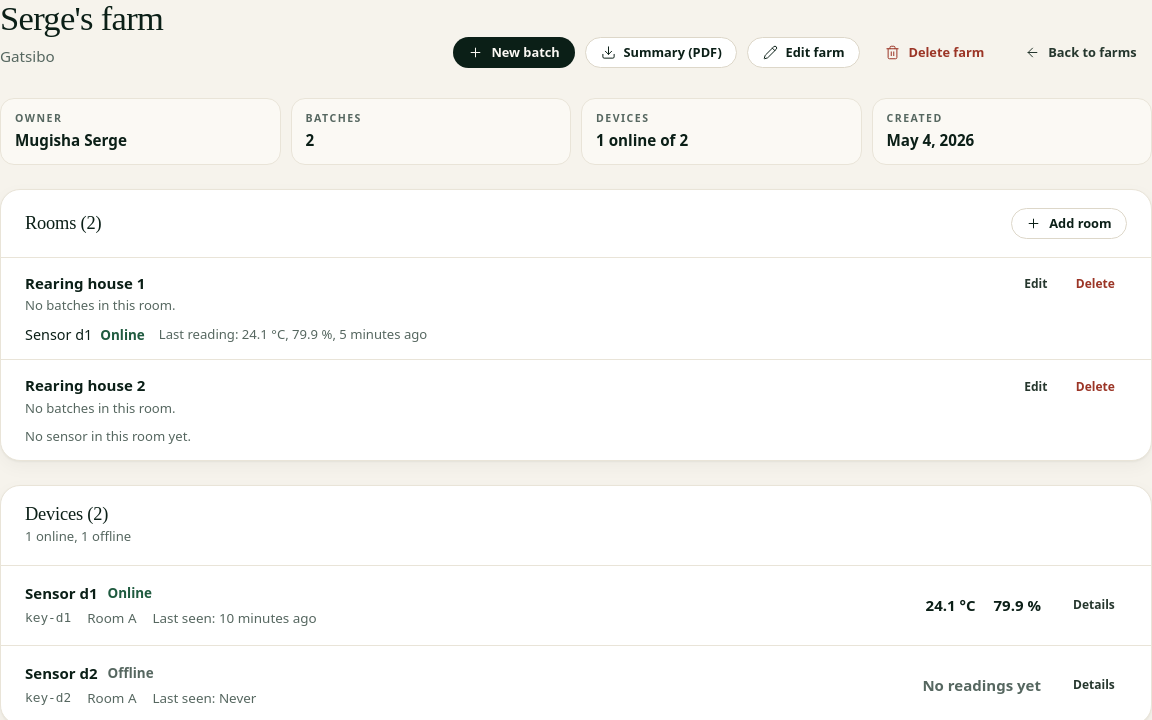
Test: Farm details page › lets a farmer rename a farm from before places without asking for a place
The image size is (1152, 720).
Expected: the text "Mugisha Serge" is shown, [15,130,127,150]
Click the button "Edit farm".
click(804, 53)  # box [747,37,860,68]
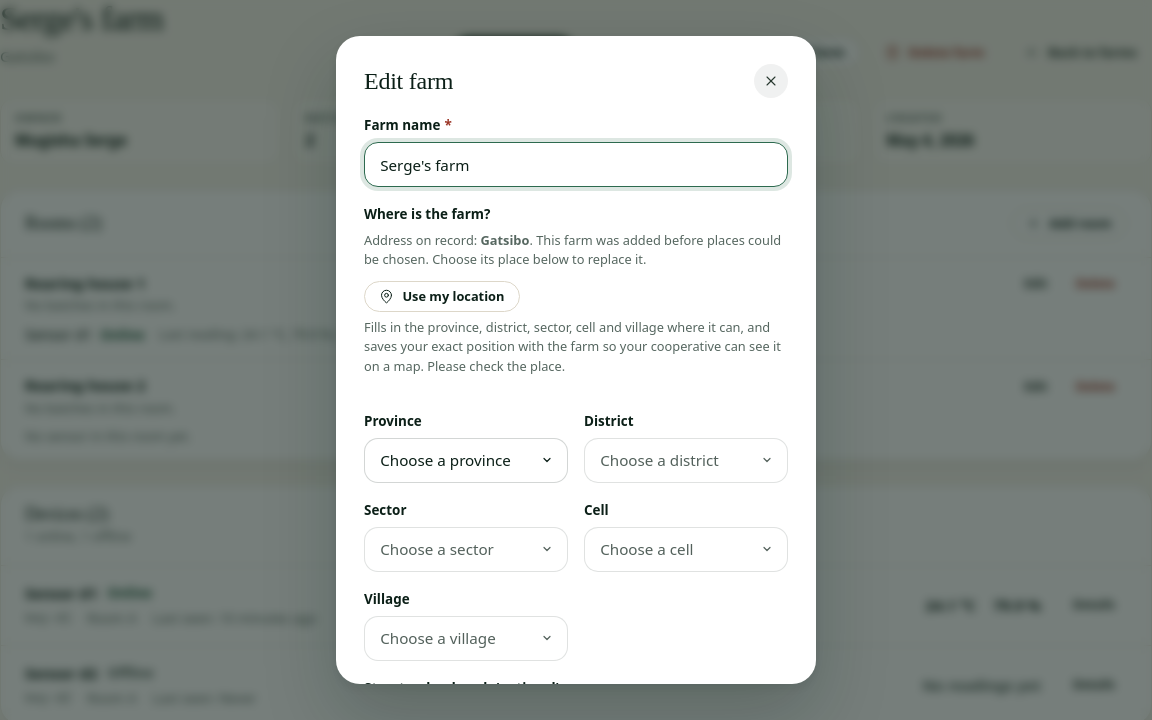
Expected: the field labelled "Farm name *" holds "Serge's farm"
Expected: the text "Gatsibo" is shown, [480,231,529,249]
Replace the text in the field labelled "Farm name *" with "Serge Farm" at (576, 164), box [364,142,788,187]
(page scrolled)
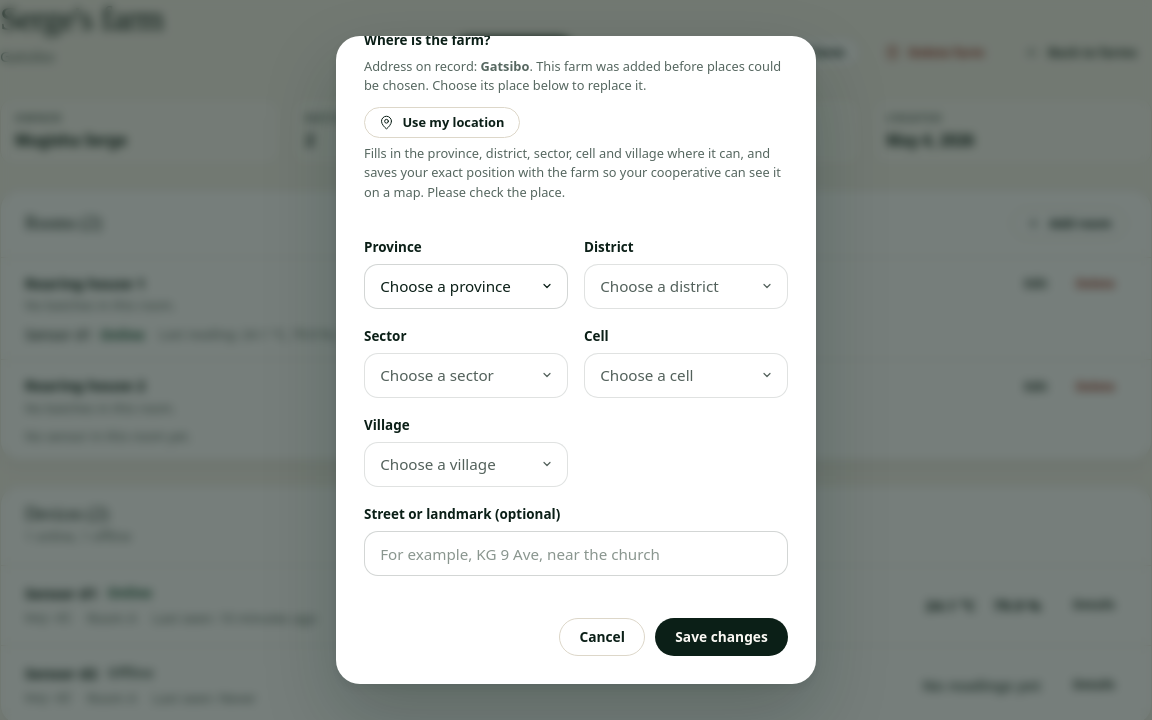
Click the button "Save changes".
click(722, 637)  # box [655,618,788,656]
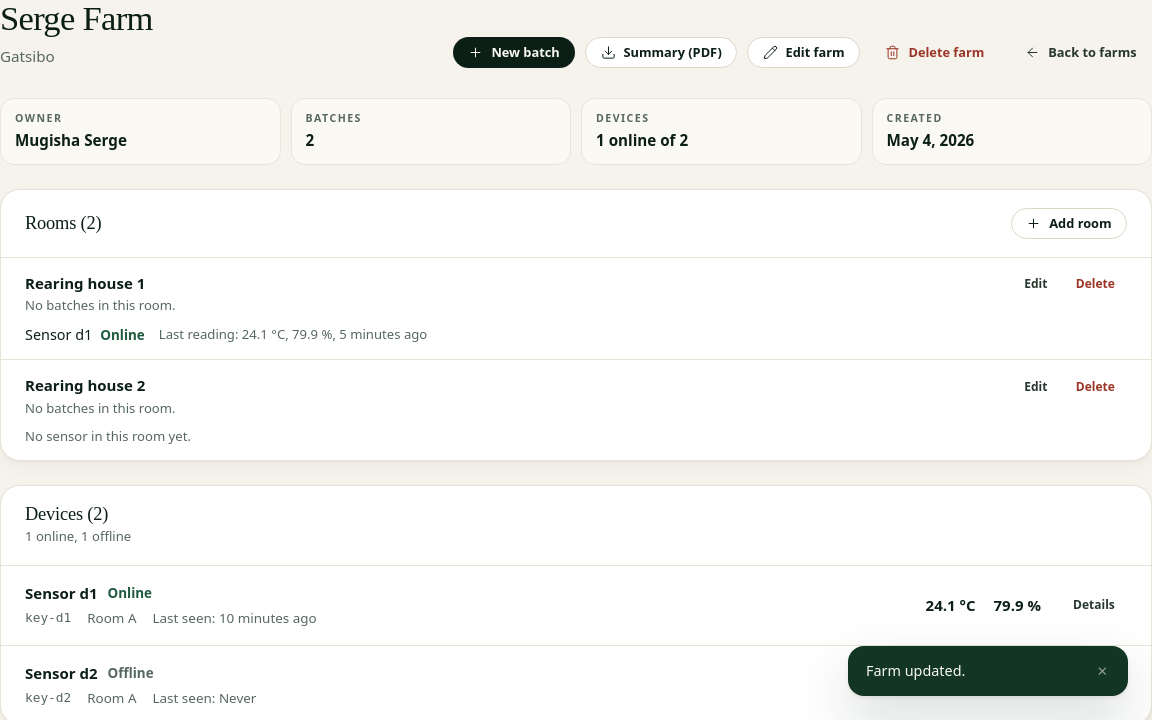
Expected: the heading "Serge Farm" is shown, [0,0,153,37]
